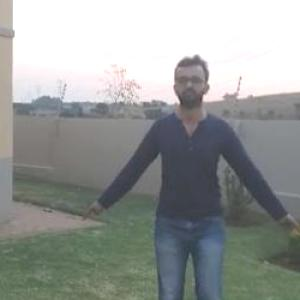land: (90, 54, 298, 299)
